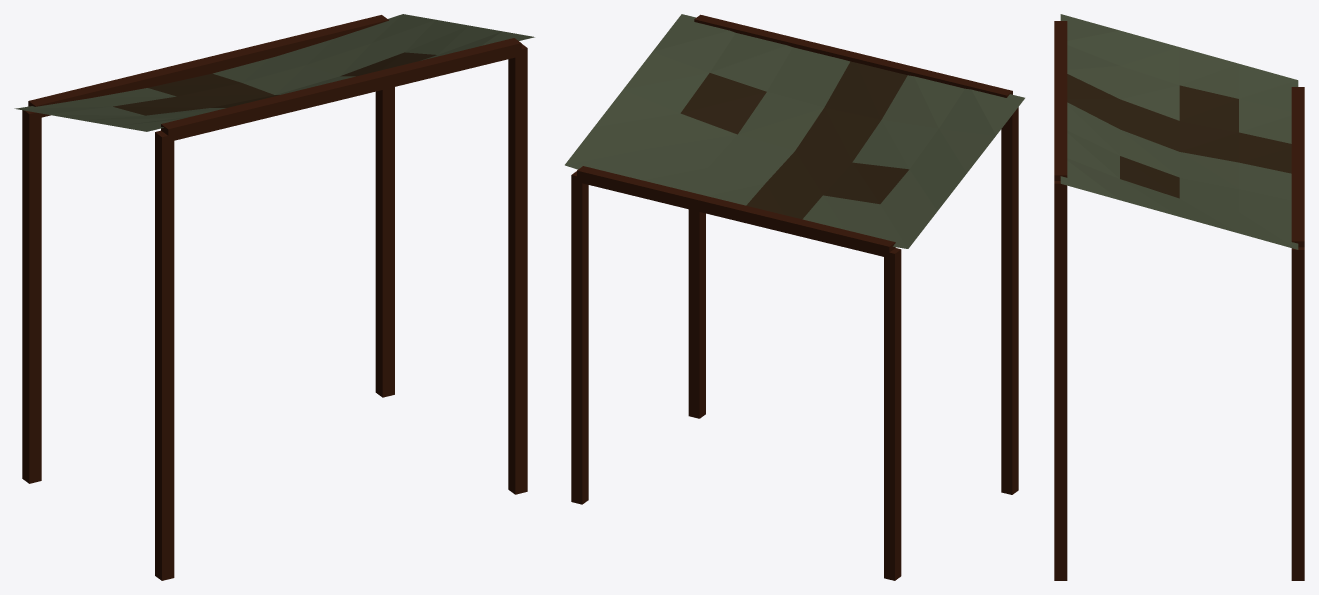
Rendered from SM_Awning.fbx.
The picture shows the model from 3 angles, left to right: view 1: azimuth 30°, elevation 25°; view 2: azimuth 150°, elevation 25°; view 3: azimuth 270°, elevation 25°; orthographic projection. The views are drawn at different scales.
Visible parts, largest first — view 1: SM_Awning; view 2: SM_Awning; view 3: SM_Awning.
Part boxes in pixels (x1,y1,x2,y2): SM_Awning: [14, 14, 534, 580]; SM_Awning: [565, 14, 1024, 580]; SM_Awning: [1054, 14, 1304, 580].
Size of the model in its own units: 220 by 244 by 137.
